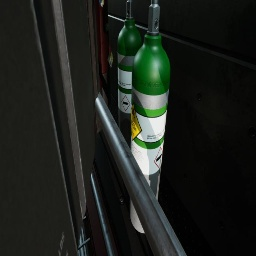0: (130, 0, 170, 234), (118, 0, 142, 150)
NitrogenTank ,: (99, 0, 111, 107), (95, 0, 103, 134)
